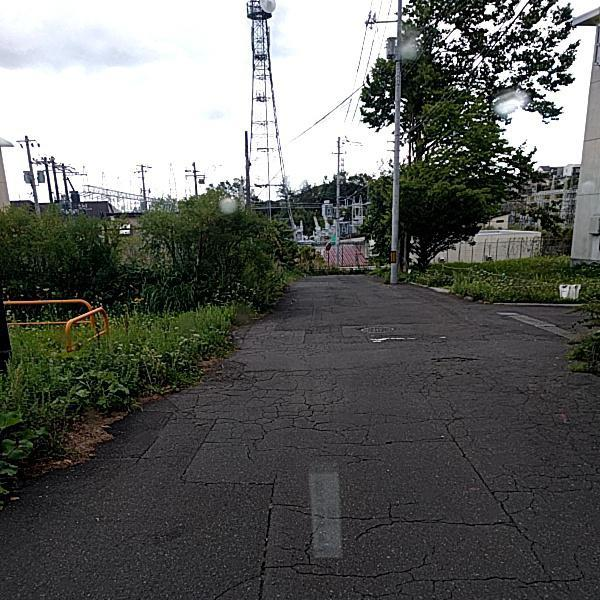D20: (152, 373, 599, 599)
D50: (358, 323, 396, 333)
